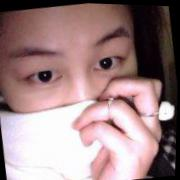WRONG: (1, 10, 158, 180)
